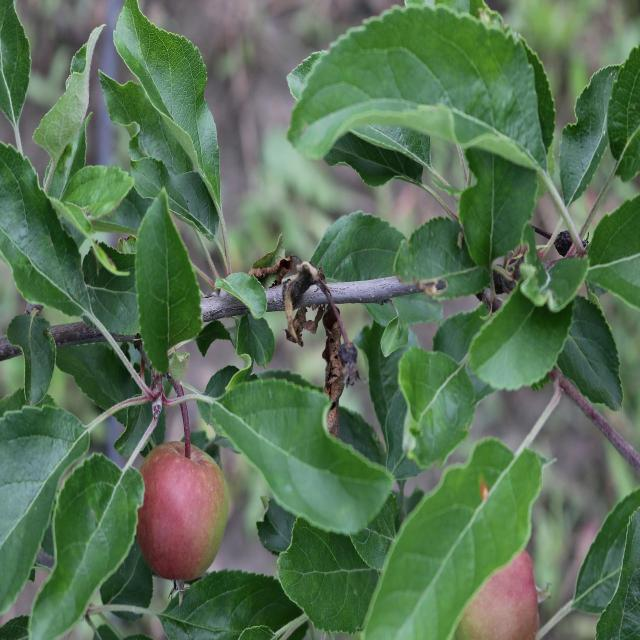-FireBlight-: (254, 254, 370, 406)
